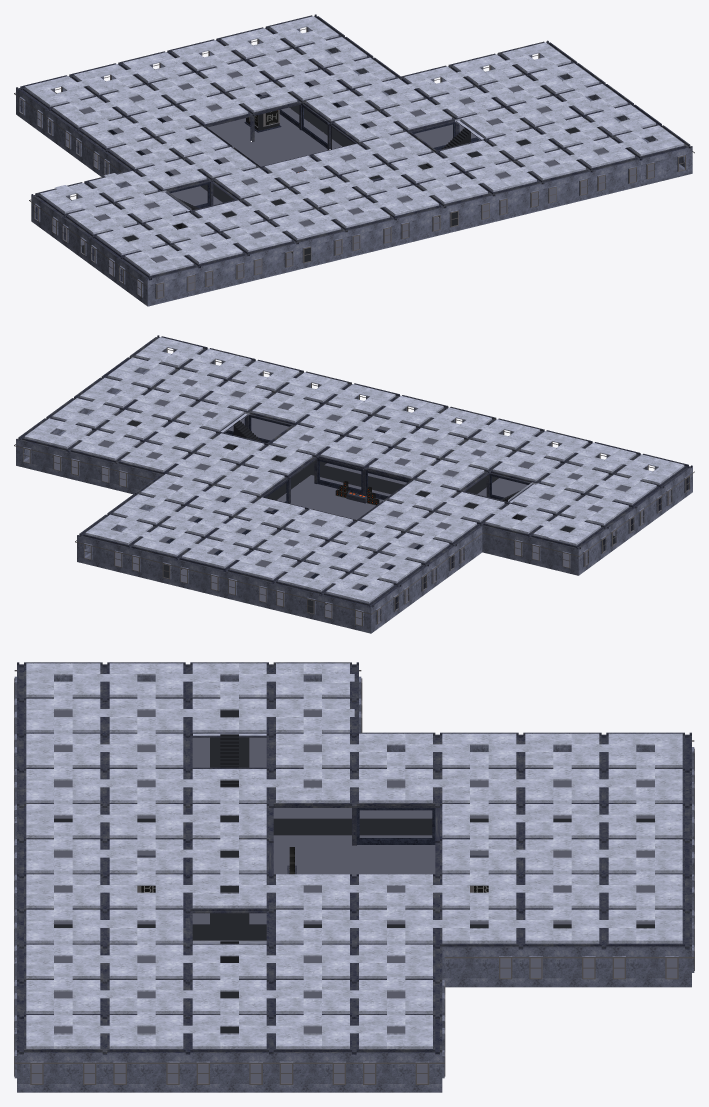
File: degenroom-v4-transformed.glb
3 views of the same model, one above another, from view 1: azimuth 30°, elevation 25°; view 2: azimuth 150°, elevation 25°; view 3: azimuth 270°, elevation 25° (orthographic). The views are drawn at different scales.
Visible parts, largest first — view 1: additional-stair, outside-walls, dj-table, floor-2, windows, stairs, inside-walls; view 2: additional-stair, outside-walls, dj-table, floor-2, windows, stairs, inside-walls; view 3: additional-stair, dj-table, outside-walls, floor-2, stairs, windows, inside-walls.
Boxes of the visible parts, x1,y1,x2,y2 form: additional-stair: [24, 16, 684, 275]; outside-walls: [16, 27, 692, 306]; dj-table: [16, 14, 692, 281]; floor-2: [38, 59, 683, 297]; windows: [14, 27, 694, 299]; stairs: [82, 105, 579, 261]; inside-walls: [108, 82, 530, 227]; additional-stair: [24, 337, 684, 603]; outside-walls: [16, 348, 692, 633]; dj-table: [16, 335, 692, 609]; floor-2: [25, 379, 670, 625]; windows: [14, 347, 694, 626]; stairs: [127, 420, 615, 613]; inside-walls: [166, 415, 529, 589]; additional-stair: [26, 663, 682, 1048]; dj-table: [17, 662, 691, 1054]; outside-walls: [14, 675, 694, 1092]; floor-2: [31, 710, 677, 1083]; stairs: [54, 710, 654, 1033]; windows: [14, 670, 694, 1084]; inside-walls: [137, 808, 488, 876].
Size of the model in its own units: 767 by 39.75 by 561.
Materials: 14 (11 with a texture image).
